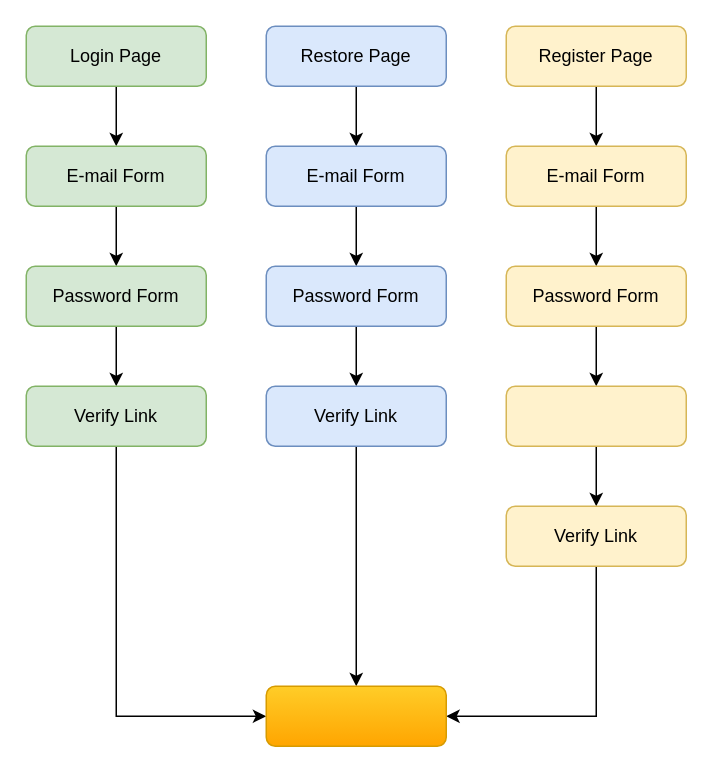
Some shapes in this 713 by 773 pixel diagram are drawn without their labels. Each missing label, with the box of its shape:
Firebase: (265, 685, 446, 746)
Username: (505, 385, 686, 446)
